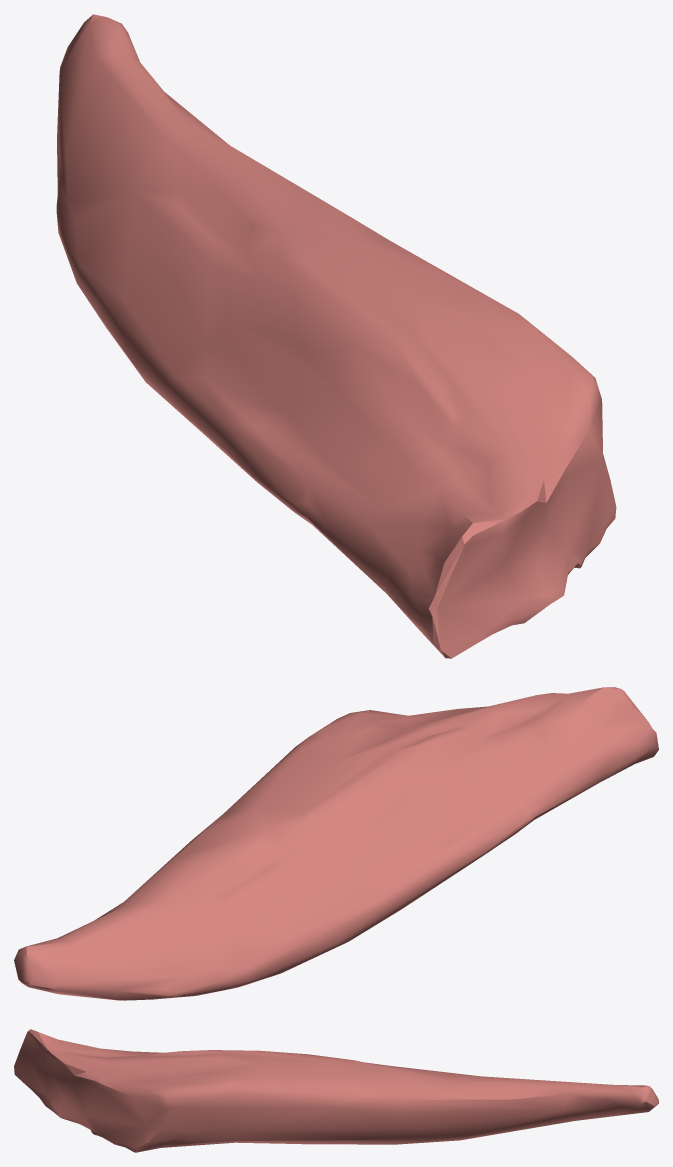
File: fma46293_fj1555.glb
The picture shows the model from 3 angles, top to bottom: view 1: azimuth 30°, elevation 25°; view 2: azimuth 150°, elevation 25°; view 3: azimuth 270°, elevation 25°; orthographic projection. The views are drawn at different scales.
Parts seen in each view (by area): view 1: FMA46293_FJ1555; view 2: FMA46293_FJ1555; view 3: FMA46293_FJ1555.
Part boxes in pixels (<box>): FMA46293_FJ1555: <box>56,14,616,658</box>; FMA46293_FJ1555: <box>14,687,658,1000</box>; FMA46293_FJ1555: <box>14,1029,658,1152</box>.
Size of the model in its own units: 0.00983 by 0.00471 by 0.0346.
